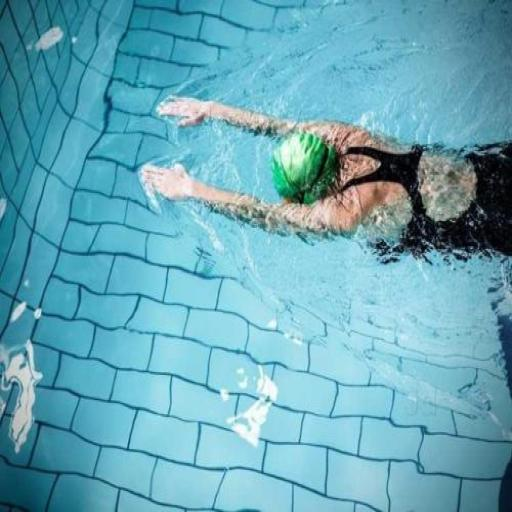swimming: (139, 91, 511, 267)
